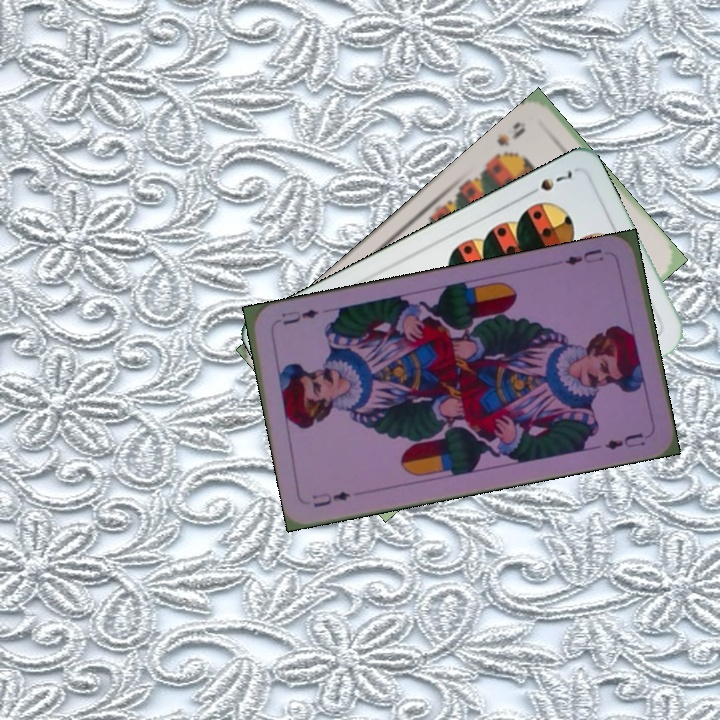EU: (561, 244, 607, 268), (308, 487, 353, 510)
S7: (522, 166, 575, 199)
S9: (488, 117, 528, 164)
